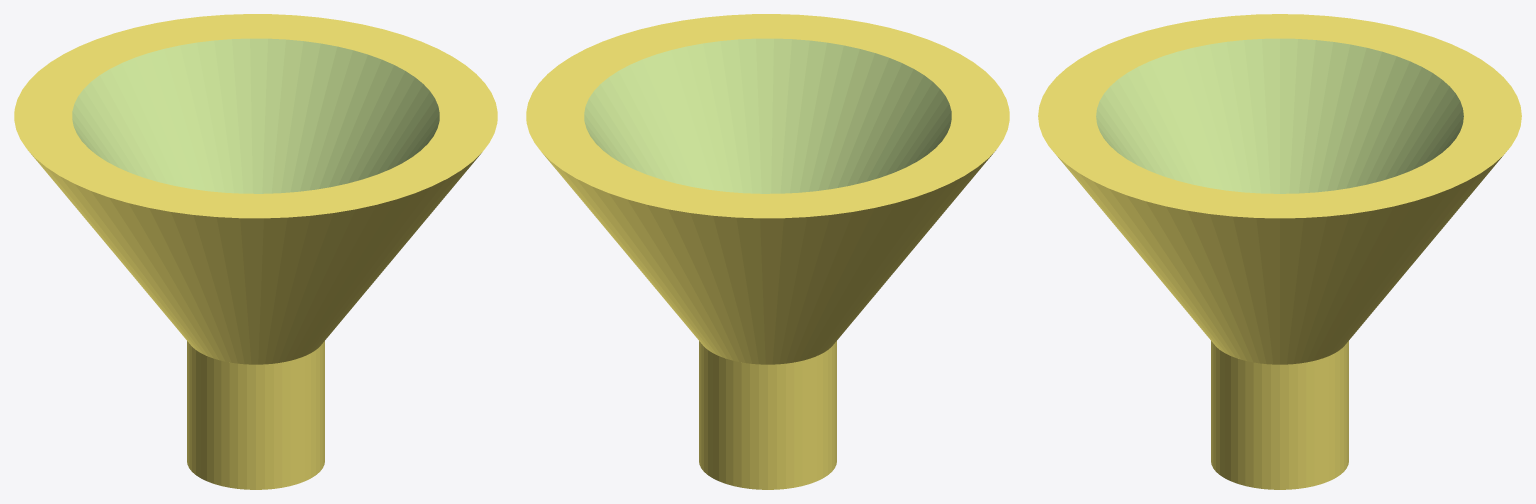
File: funnel.glb
The picture shows the model from 3 angles, left to right: view 1: azimuth 30°, elevation 25°; view 2: azimuth 150°, elevation 25°; view 3: azimuth 270°, elevation 25°; orthographic projection.
Size of the model in its own units: 28 by 22 by 28.
